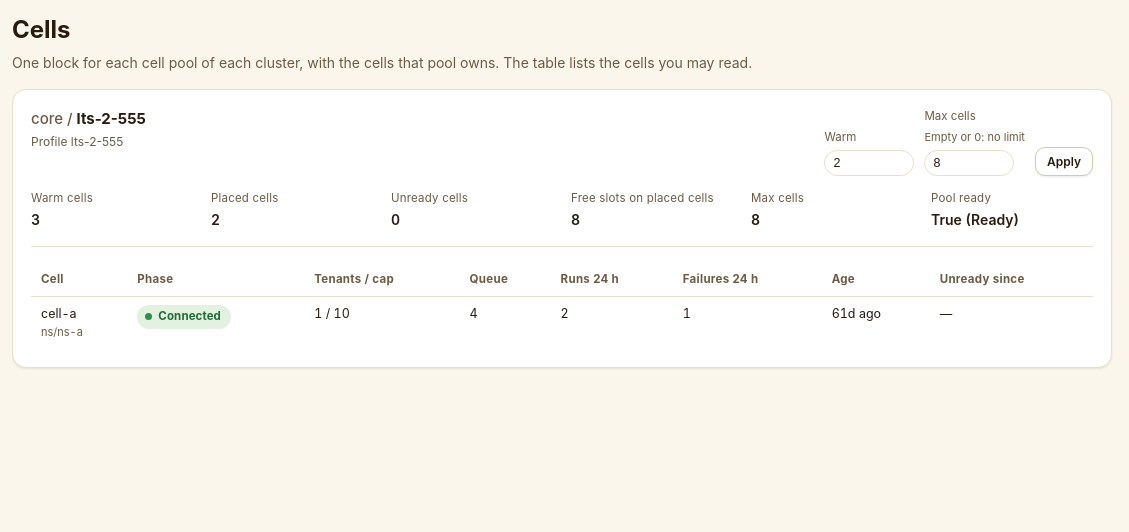
The scale control › asks for a confirm on a drain and names the two reported numbers
Replace the text in the number field named "Warm cells of lts-2-555 on core" with "1" at (870, 163), box [824, 150, 914, 176]
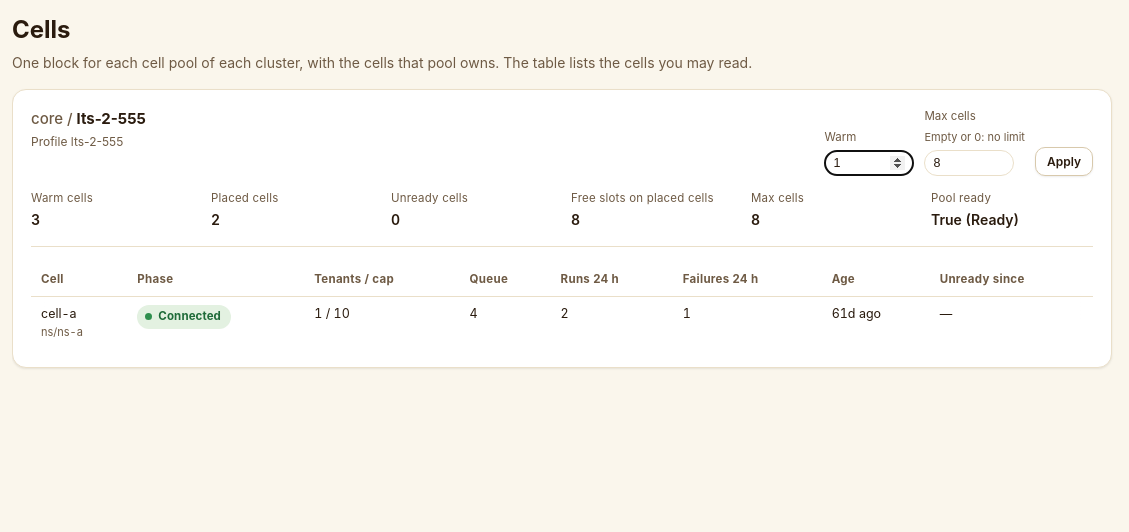
Click the button "Apply" at (1064, 161), box [1035, 147, 1093, 176]
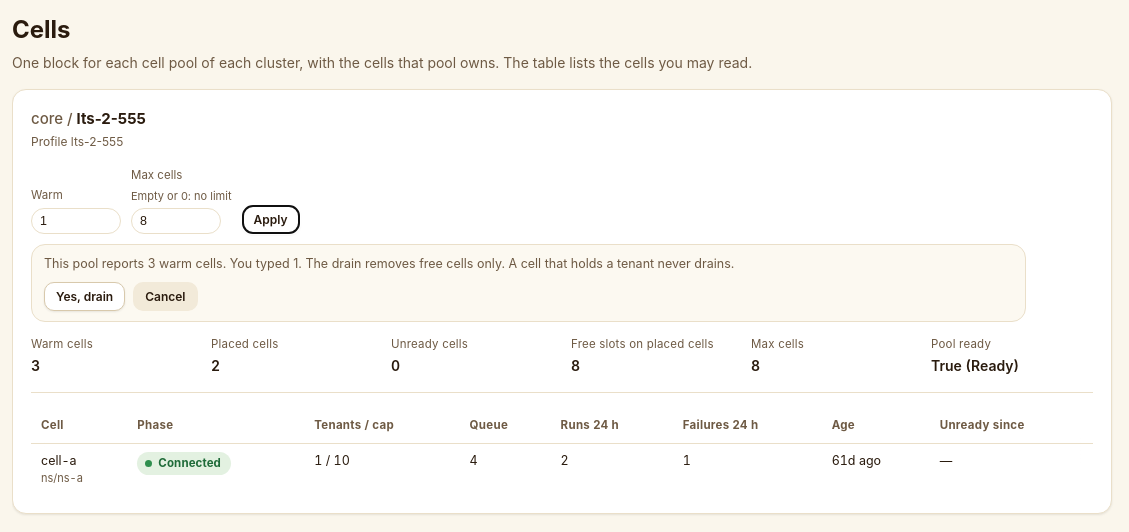
Result: the message shows "reports 3 warm cells" at [31, 244, 1026, 322]
Result: the message shows "You typed 1" at [31, 244, 1026, 322]
Result: the message shows "never drains" at [298, 256, 734, 271]
